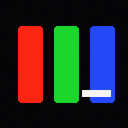3 line_h: (82, 90, 110, 96)
